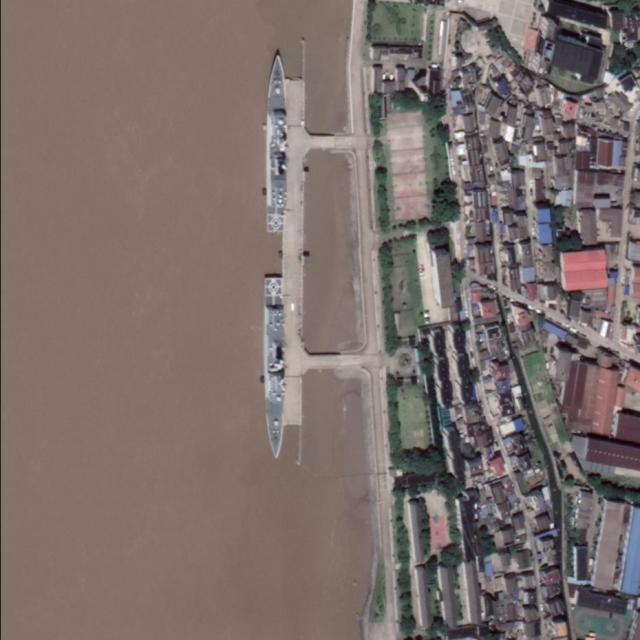Auxiliary Ships: (264, 276, 284, 458), (268, 50, 285, 234)
